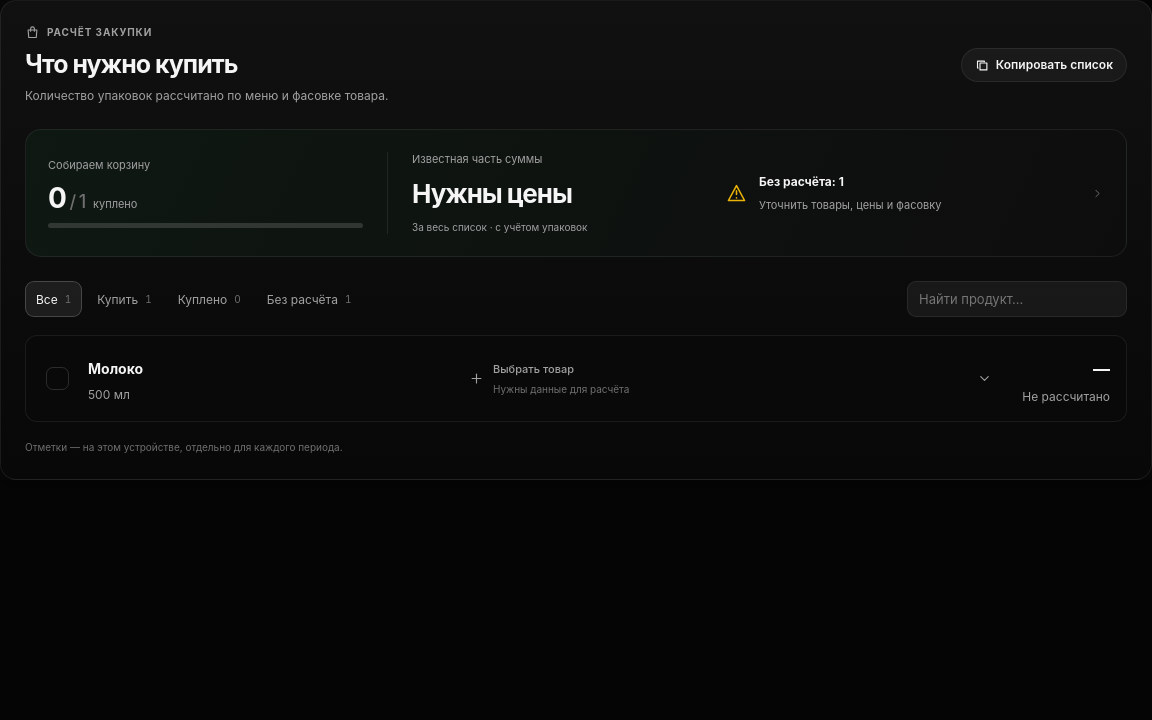
Test: shopping list interactions › copies unchecked ingredients and reports clipboard failures
Click the button "Копировать список" at (1044, 65), box x1=961 y1=48 x2=1127 y2=82
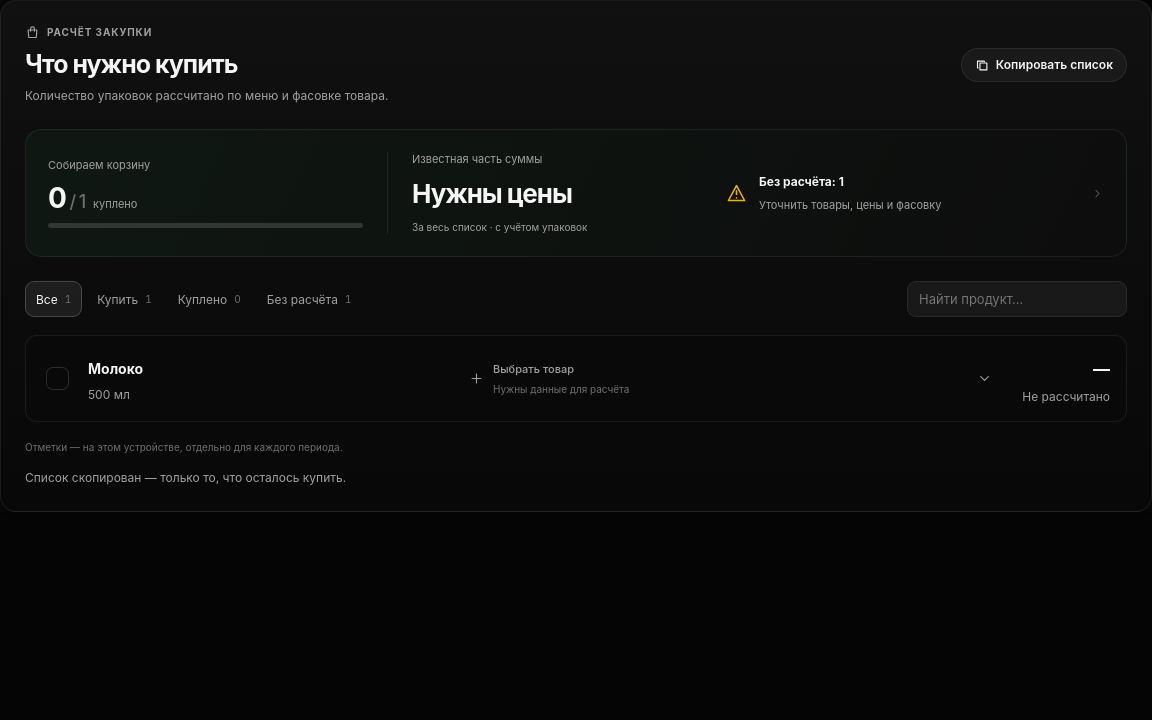
Check: the message "Список скопирован — только то, что осталось купить." is shown, box x1=25 y1=470 x2=346 y2=485
Click the button "Копировать список" at (1044, 65), box x1=961 y1=48 x2=1127 y2=82
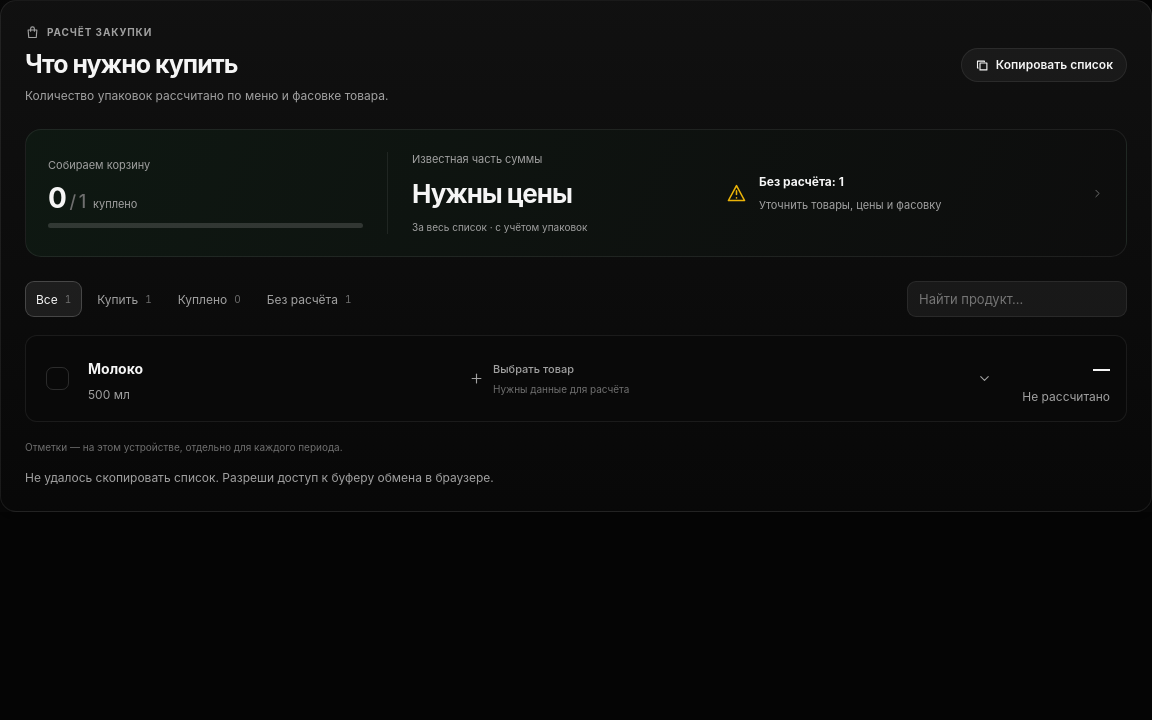
Check: the message "Не удалось скопировать список. Разреши доступ к буферу обмена в браузере." is shown, box x1=25 y1=470 x2=494 y2=485
